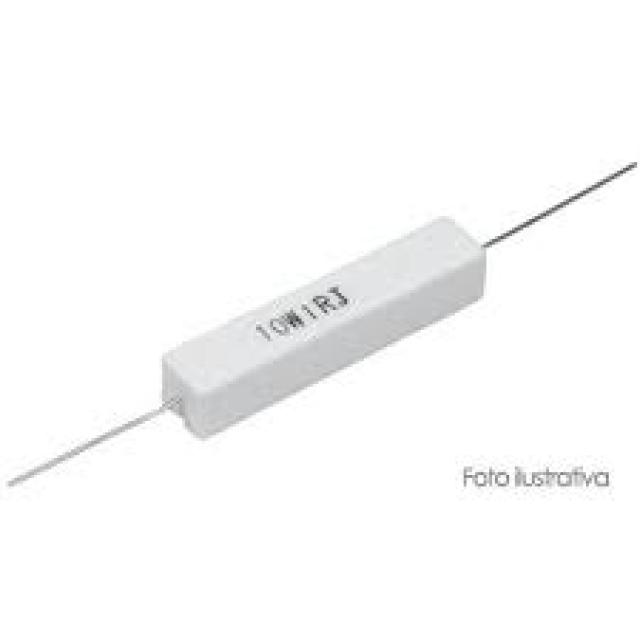Resistor: (166, 219, 478, 437)
